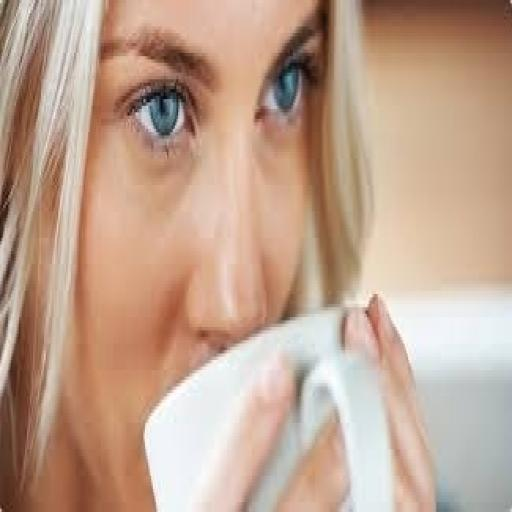drinking: (0, 0, 394, 509)
